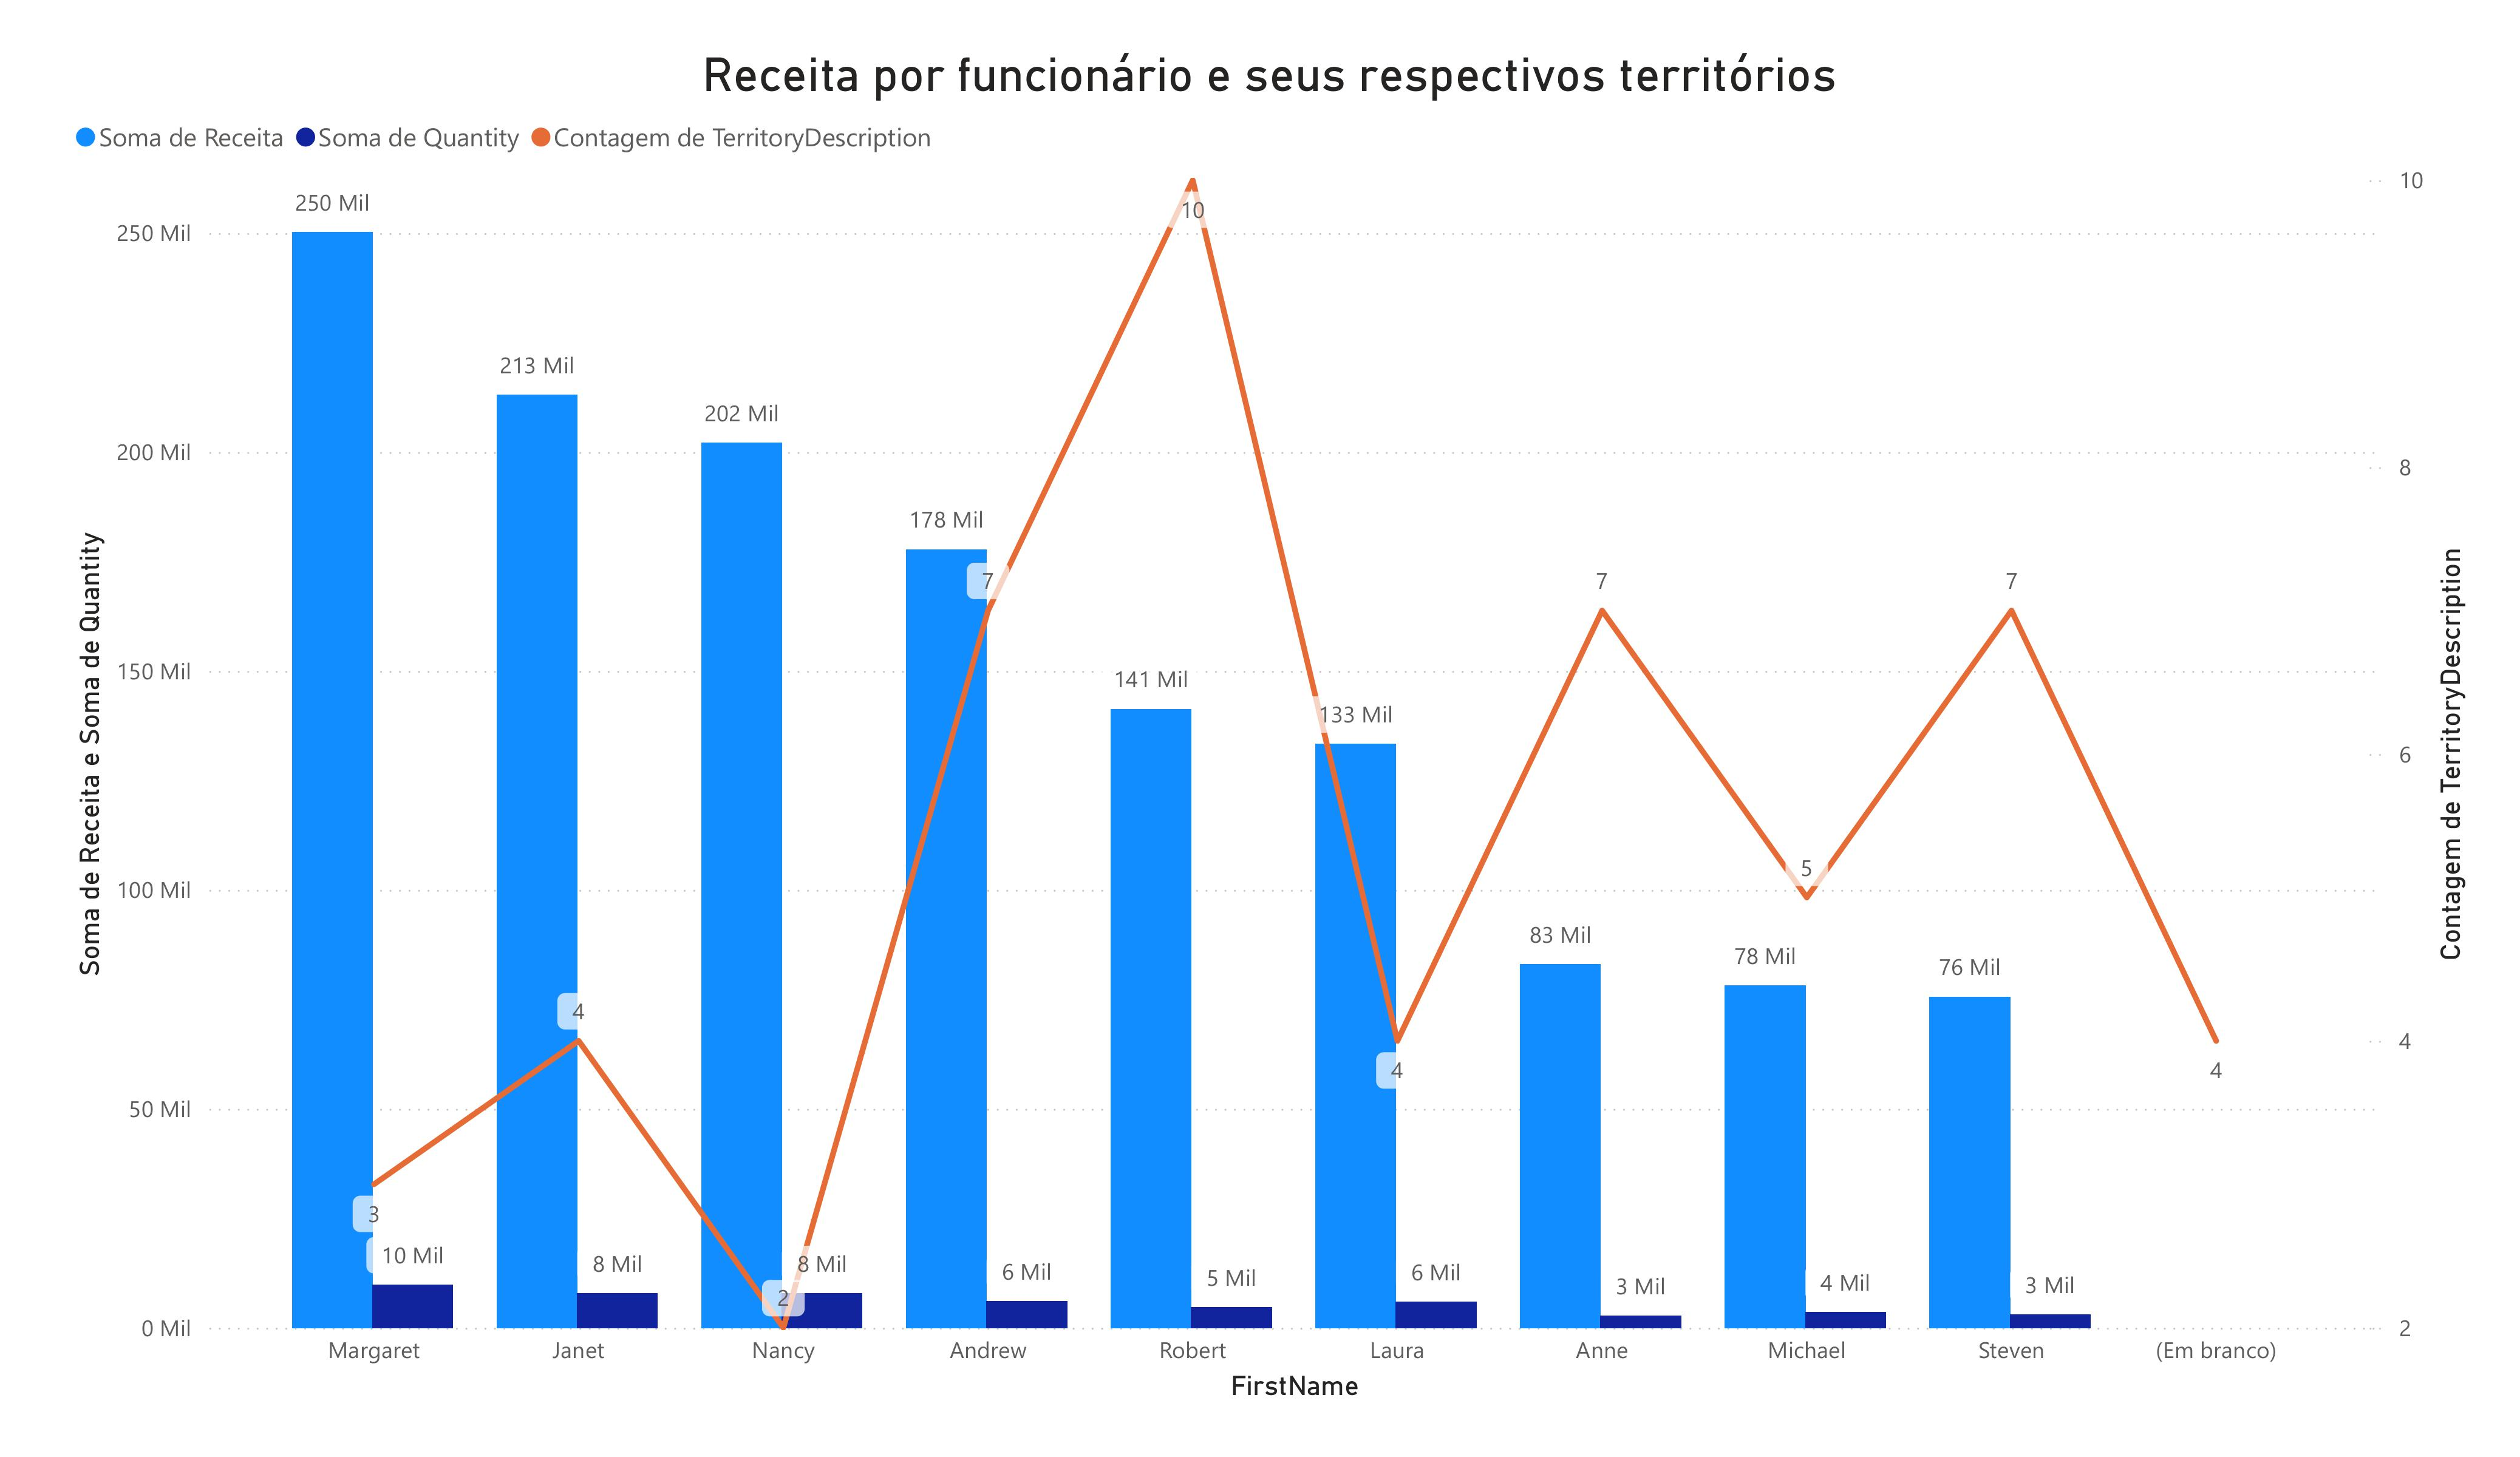

This screenshot's page, from the dashboard's own definition file:
{"tool":"powerbi","page":{"name":"Página 10","canvas":[1280,720],"ordinal":9},"visuals":[{"type":"lineClusteredColumnComboChart","title":"Receita por funcionário e seus respectivos territórios","fields":{"Category":["dim_employee.FirstName"],"Y2":["CountNonNull(dim_territory.TerritoryDescription)"],"Y":["Sum(fact_vendas.Receita)","Sum(fact_vendas.Quantity)"]},"box":[10,0,1270,720.1],"z":0}]}

Visuals, with their boxes on the page's 1280x720 design canvas (x1, y1, x2, y2). These are canvas units, not pixel positions in the 2520x1457 screenshot, which may show the page scaled, cropped or inside an application window:
"Receita por funcionário e seus respectivos territórios" lineClusteredColumnComboChart: left=10, top=0, right=1280, bottom=720
